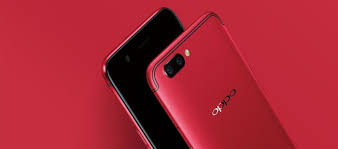oppo: (148, 11, 306, 149)
